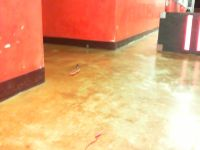switch: (183, 15, 193, 51), (197, 14, 199, 51)
